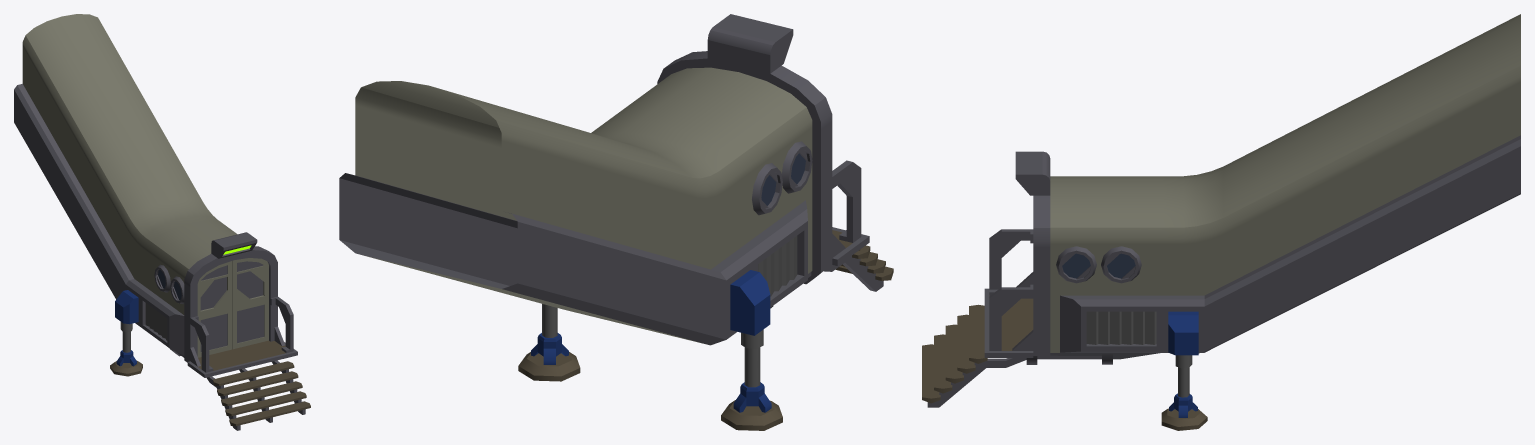
Rendered from LPSciFi_DiagonalStairs.fbx.
The picture shows the model from 3 angles, left to right: view 1: azimuth 30°, elevation 25°; view 2: azimuth 150°, elevation 25°; view 3: azimuth 270°, elevation 25°; orthographic projection. The views are drawn at different scales.
Visible parts, largest first — view 1: DiagonalStairs; view 2: DiagonalStairs; view 3: DiagonalStairs.
Boxes of the visible parts, x1,y1,x2,y2 form: DiagonalStairs: (14, 14, 310, 430); DiagonalStairs: (339, 14, 893, 430); DiagonalStairs: (922, 14, 1520, 430).
Bounding box in the file's own units: 411 × 722 × 1096.
